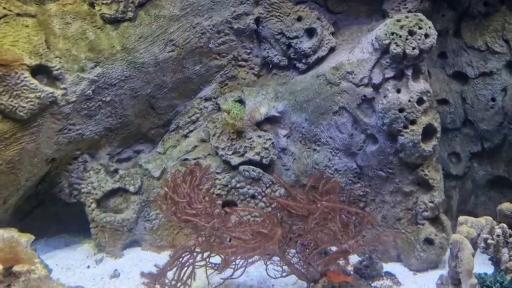Fish: (325, 270, 353, 283)
